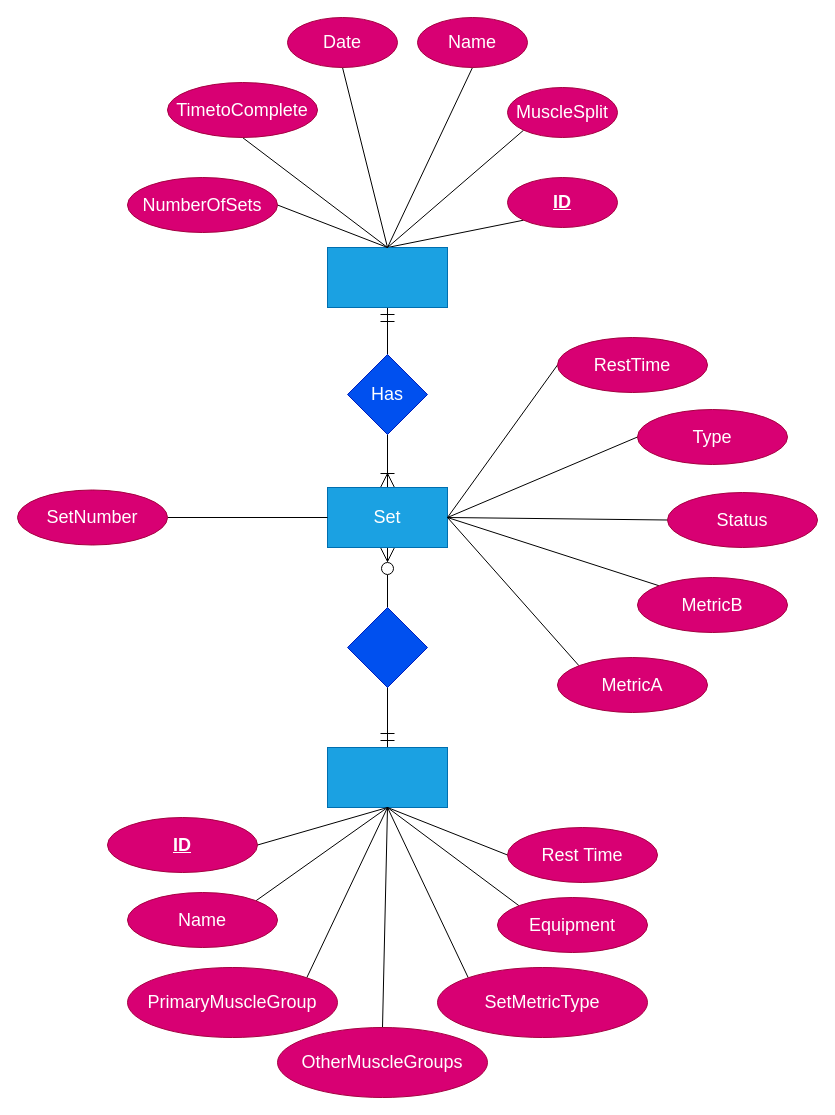
Some shapes in this 835 by 1115 pixel diagram are drawn without their labels. Each missing label, with the box of its shape:
Exercise: (326, 746, 448, 808)
Is Of: (346, 606, 428, 688)
Workout: (326, 246, 448, 308)
